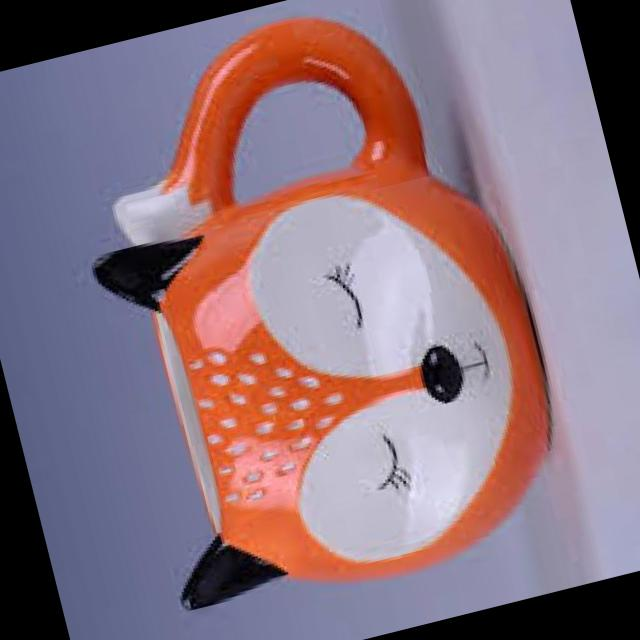Coffee Mug: (53, 0, 586, 622)
